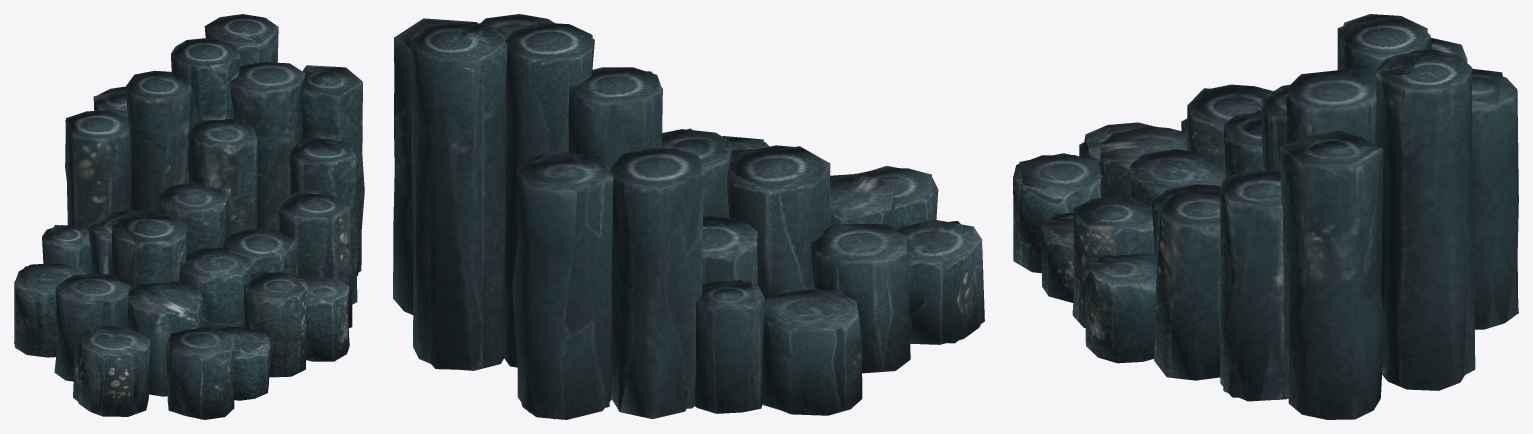
Rendered from nature-blue-basalt-columns.glb.
3 renders of one model, left to right at view 1: azimuth 30°, elevation 25°; view 2: azimuth 150°, elevation 25°; view 3: azimuth 270°, elevation 25°, orthographic. The views are drawn at different scales.
Bounding box in the file's own units: 1 × 0.649 × 0.9695.
1 material, 1 textured.
